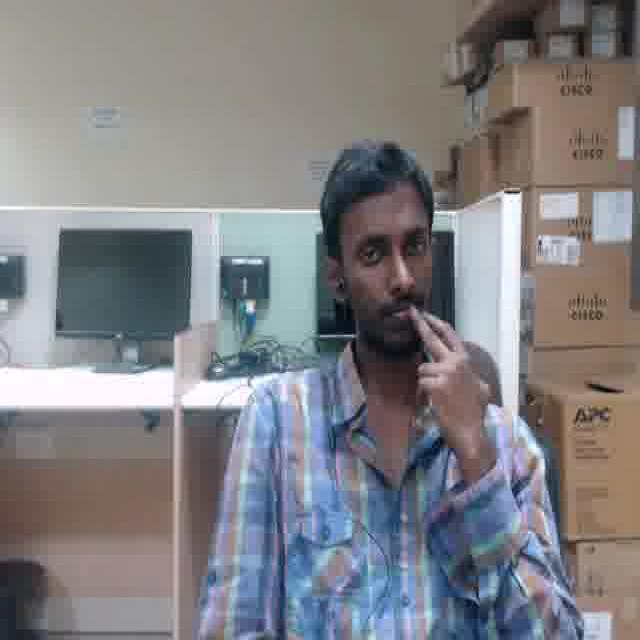Engaged: (340, 188, 430, 343)
